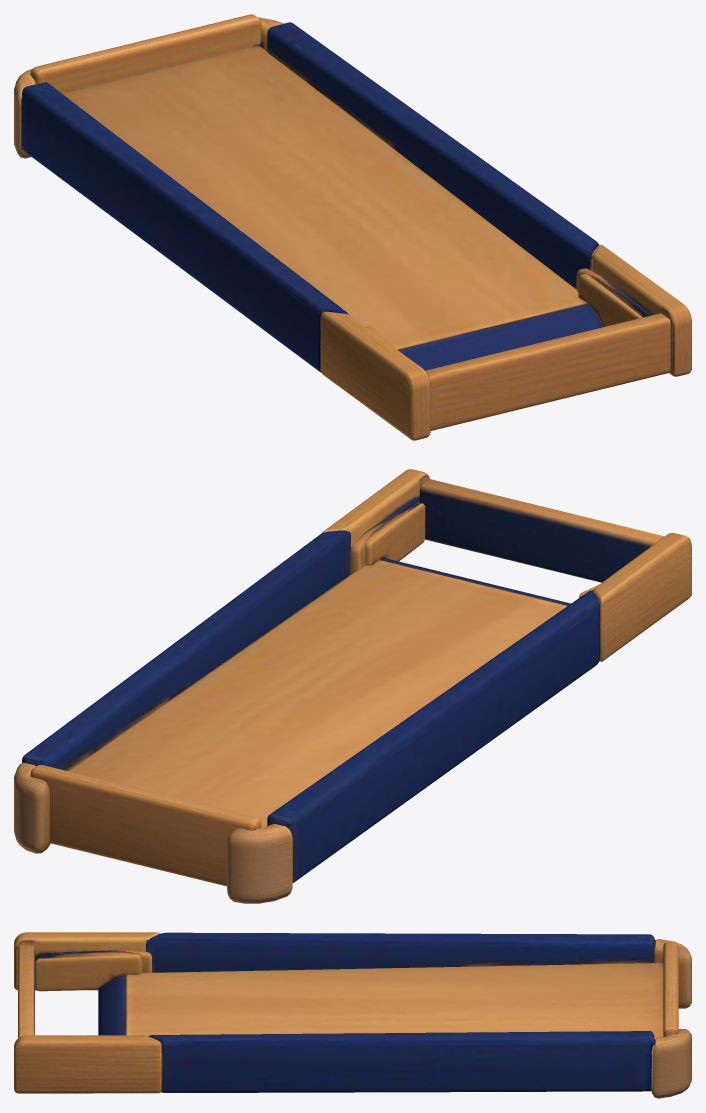
File: board.glb
The picture shows the model from 3 angles, top to bottom: view 1: azimuth 30°, elevation 25°; view 2: azimuth 150°, elevation 25°; view 3: azimuth 270°, elevation 25°; orthographic projection. The views are drawn at different scales.
Parts seen in each view (by area): view 1: tripo_node_0b388335-276b-4379-883a-c0f5a4ec4748; view 2: tripo_node_0b388335-276b-4379-883a-c0f5a4ec4748; view 3: tripo_node_0b388335-276b-4379-883a-c0f5a4ec4748.
Part boxes in pixels (x1,y1,x2,y2): tripo_node_0b388335-276b-4379-883a-c0f5a4ec4748: (14, 14, 691, 440); tripo_node_0b388335-276b-4379-883a-c0f5a4ec4748: (14, 469, 691, 903); tripo_node_0b388335-276b-4379-883a-c0f5a4ec4748: (14, 932, 691, 1098).
Size of the model in its own units: 0.3872 by 0.103 by 0.9995.
Materials: 1 (1 with a texture image).
